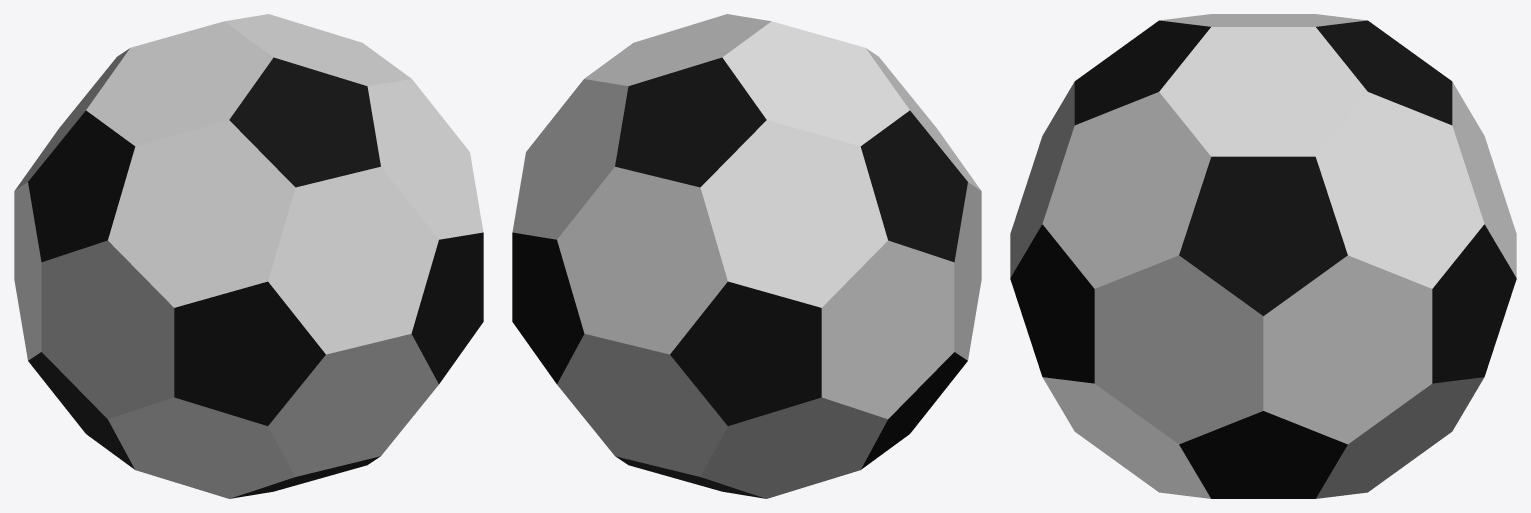
Rendered from Footballe.fbx.
3 renders of one model, left to right at view 1: azimuth 30°, elevation 25°; view 2: azimuth 150°, elevation 25°; view 3: azimuth 270°, elevation 25°, orthographic. The views are drawn at different scales.
Parts seen in each view (by area): view 1: Footballe; view 2: Footballe; view 3: Footballe.
Boxes of the visible parts, x1=… form: Footballe: x1=14, y1=14, x2=483, y2=498; Footballe: x1=512, y1=14, x2=981, y2=498; Footballe: x1=1010, y1=14, x2=1516, y2=498.
Size of the model in its own units: 34.39 by 34.39 by 34.39.
1 material, 1 textured.
